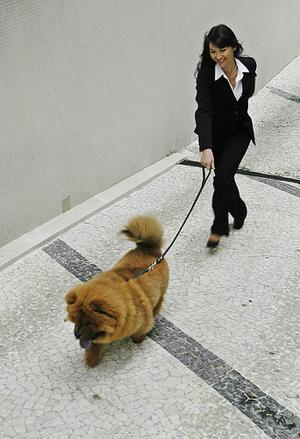person: (195, 22, 254, 254)
